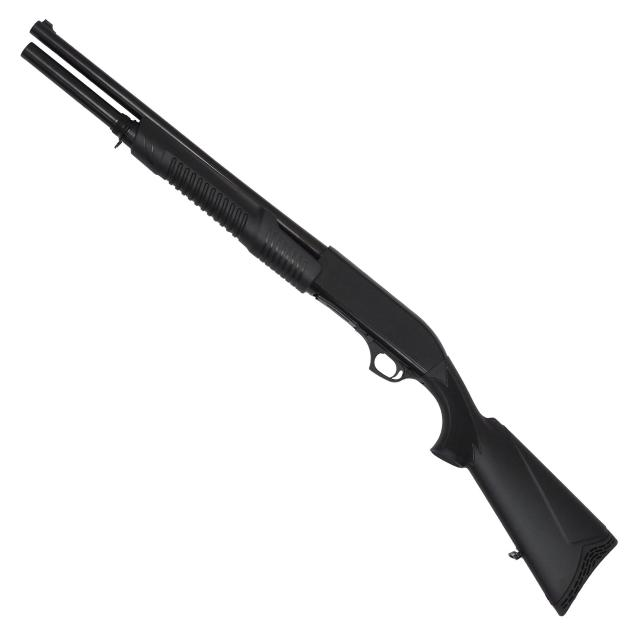ShotGun: (20, 20, 620, 618)
